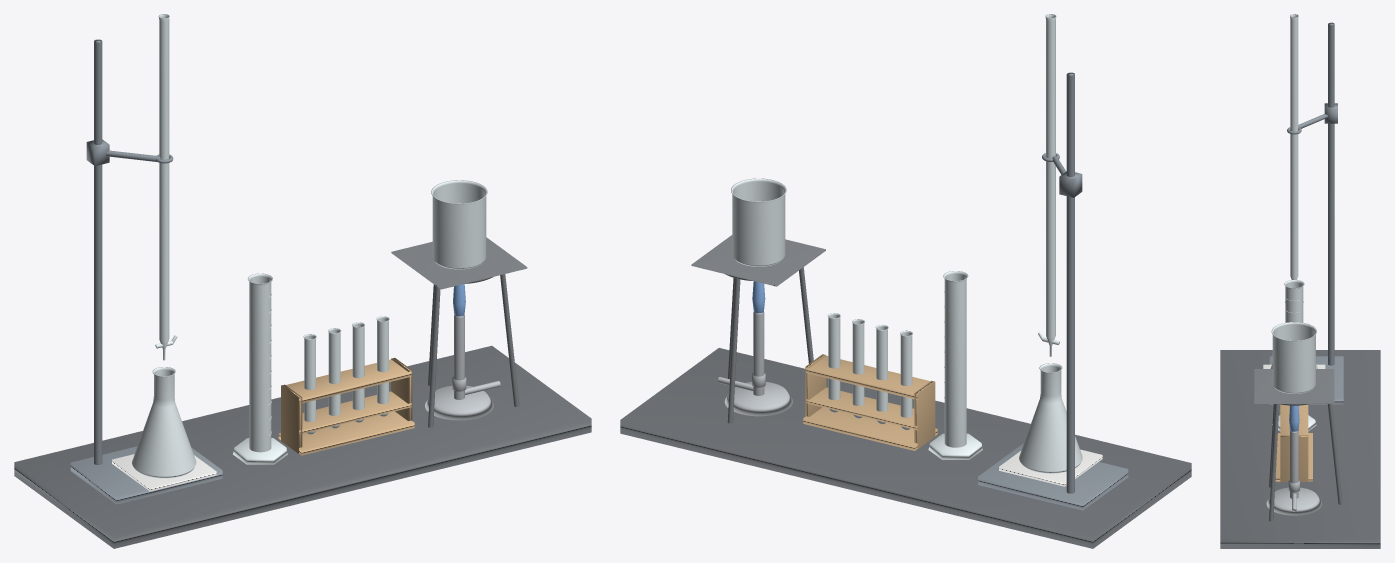
Rendered from lab_apparatus.glb.
The picture shows the model from 3 angles, left to right: view 1: azimuth 30°, elevation 25°; view 2: azimuth 150°, elevation 25°; view 3: azimuth 270°, elevation 25°; orthographic projection. The views are drawn at different scales.
Visible parts, largest first — view 1: bench, rack, retort_stand, measuring_cylinder, tripod, beaker, conical_flask, test_tubes, burette, bunsen_burner, tile; view 2: bench, retort_stand, rack, measuring_cylinder, beaker, tripod, test_tubes, conical_flask, burette, bunsen_burner, tile; view 3: bench, retort_stand, tripod, beaker, burette, rack, bunsen_burner, measuring_cylinder, flame.
Part boxes in pixels (left/top/right/bottom): bench: left=14, top=345, right=591, bottom=548; rack: left=278, top=358, right=414, bottom=455; retort_stand: left=70, top=39, right=222, bottom=504; measuring_cylinder: left=233, top=273, right=287, bottom=464; tripod: left=391, top=237, right=527, bottom=427; beaker: left=431, top=180, right=487, bottom=269; conical_flask: left=132, top=367, right=196, bottom=478; test_tubes: left=303, top=316, right=389, bottom=434; burette: left=155, top=14, right=177, bottom=360; bunsen_burner: left=425, top=315, right=500, bottom=420; tile: left=112, top=454, right=216, bottom=491; bench: left=620, top=348, right=1191, bottom=548; retort_stand: left=978, top=72, right=1128, bottom=510; rack: left=803, top=354, right=937, bottom=450; measuring_cylinder: left=928, top=271, right=982, bottom=459; beaker: left=731, top=178, right=786, bottom=266; tripod: left=691, top=235, right=825, bottom=423; test_tubes: left=828, top=313, right=912, bottom=430; conical_flask: left=1019, top=363, right=1082, bottom=473; burette: left=1038, top=14, right=1059, bottom=356; bunsen_burner: left=718, top=312, right=792, bottom=416; tile: left=999, top=449, right=1102, bottom=486; bench: left=1220, top=350, right=1380, bottom=548; retort_stand: left=1269, top=22, right=1343, bottom=404; tripod: left=1254, top=369, right=1342, bottom=521; beaker: left=1271, top=322, right=1316, bottom=393; burette: left=1290, top=14, right=1298, bottom=279; rack: left=1275, top=404, right=1312, bottom=481; bunsen_burner: left=1266, top=430, right=1321, bottom=515; measuring_cylinder: left=1272, top=280, right=1316, bottom=431; flame: left=1289, top=405, right=1299, bottom=431.
Bounding box in the file's own units: 0.72 × 0.685 × 0.26.
